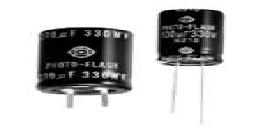Electrolytic-Capacitor: (37, 24, 138, 117), (156, 6, 227, 122)
